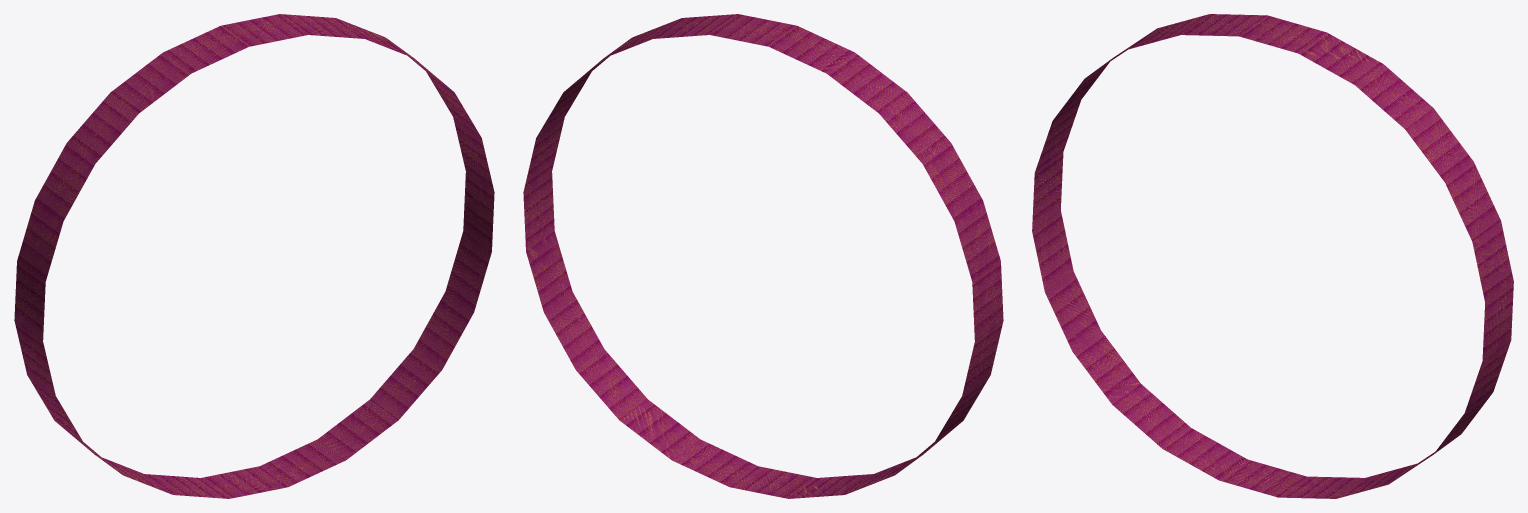
Rendered from original-137.obj.
The picture shows the model from 3 angles, left to right: view 1: azimuth 30°, elevation 25°; view 2: azimuth 150°, elevation 25°; view 3: azimuth 330°, elevation 25°; orthographic projection.
Visible parts, largest first — view 1: mesh46/mesh46-geometry/material_4#mesh46-geometry; view 2: mesh46/mesh46-geometry/material_4#mesh46-geometry; view 3: mesh46/mesh46-geometry/material_4#mesh46-geometry.
Boxes of the visible parts, box(x1,y1,x2,y2) form: mesh46/mesh46-geometry/material_4#mesh46-geometry: box(14, 14, 494, 498); mesh46/mesh46-geometry/material_4#mesh46-geometry: box(523, 14, 1003, 498); mesh46/mesh46-geometry/material_4#mesh46-geometry: box(1032, 14, 1513, 498).
Bounding box in the file's own units: 0.7243 × 0.6898 × 0.0797.
